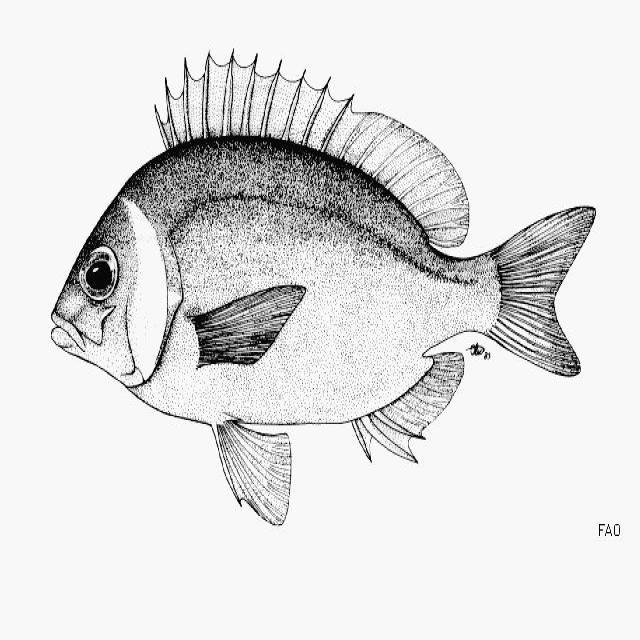ikan: (49, 47, 596, 525)
